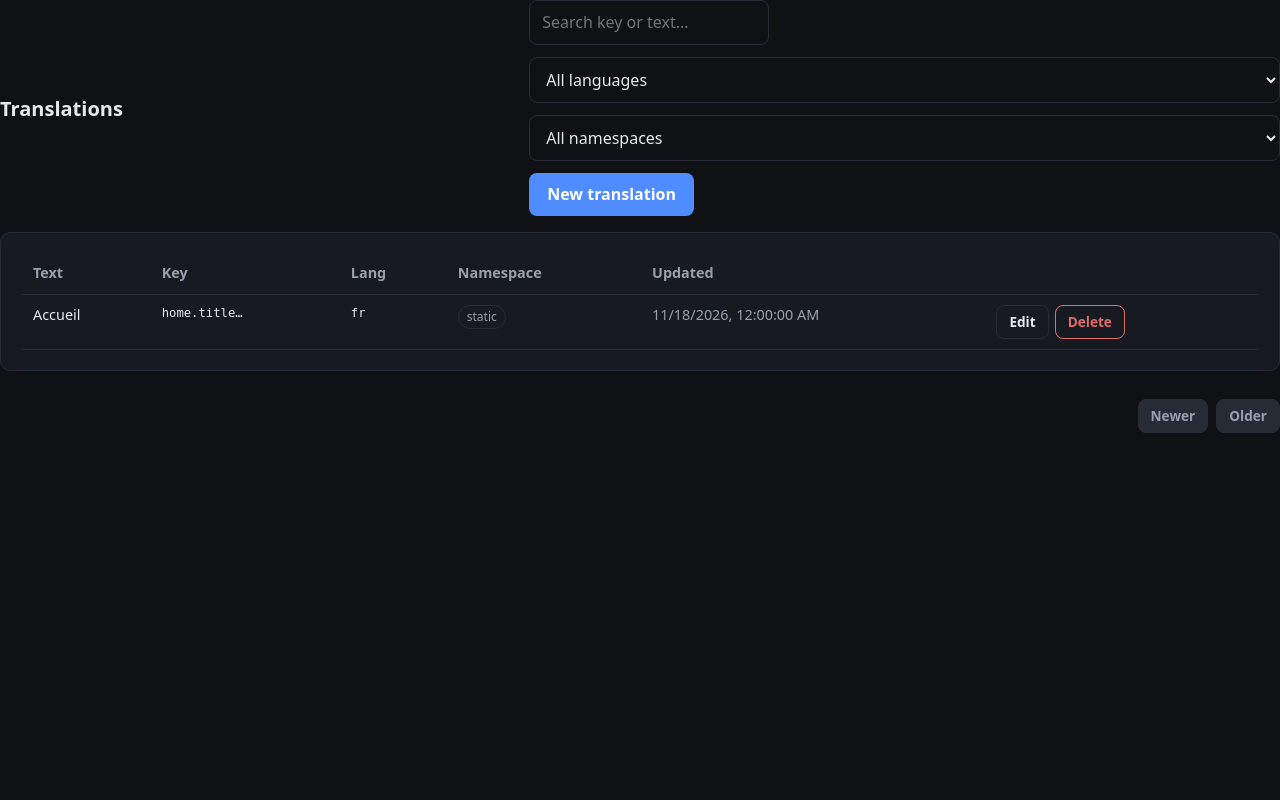
Test: TranslationsAdmin › opens the create and edit modals
Expected: the text "Accueil" is shown, [21,295,150,350]
What coordinates should you click on to do the following:
click the button "New translation"
I would click on:
 (612, 195)
Its box is [529,173,694,216].
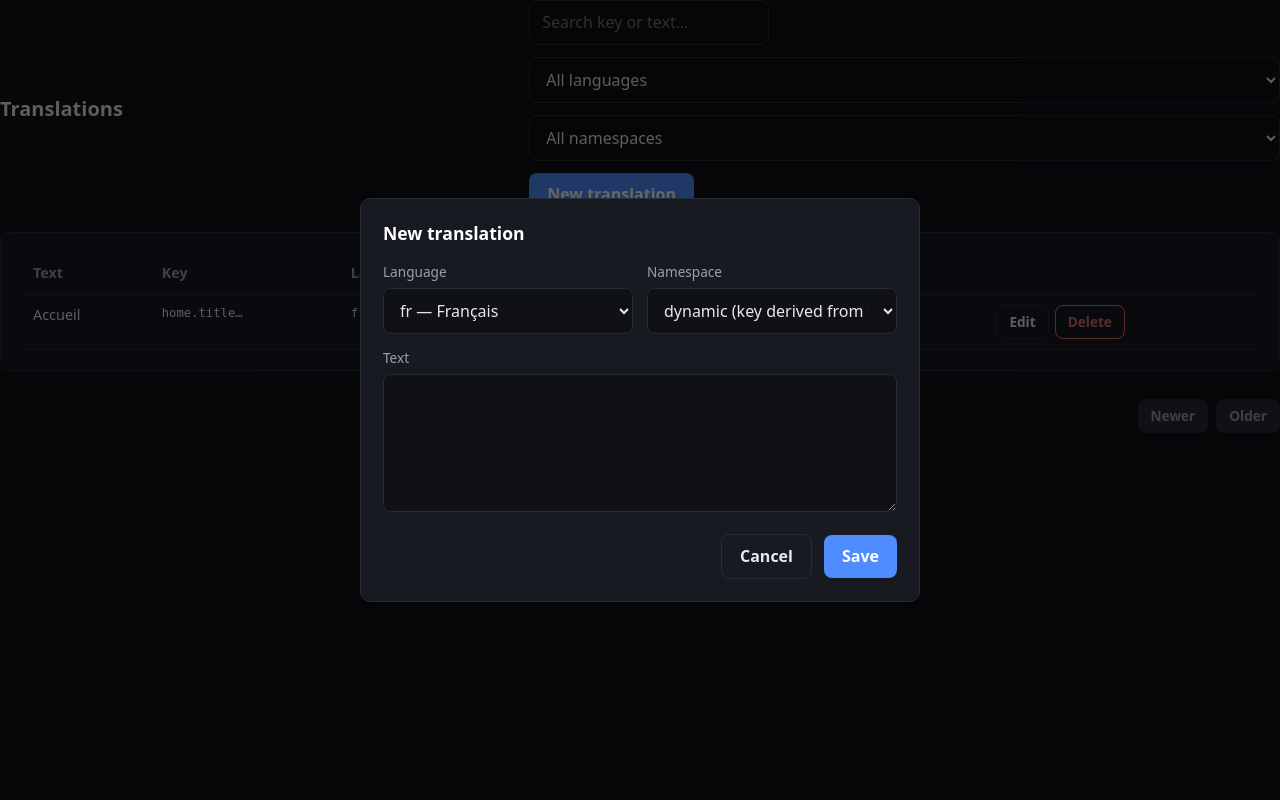
Expected: the text box labelled "Text" is empty, [383,374,897,512]
Expected: the dialog is shown
What coordinates should you click on to do the following:
click the button "Cancel"
I would click on:
 (766, 556)
Its box is [721,534,812,579].
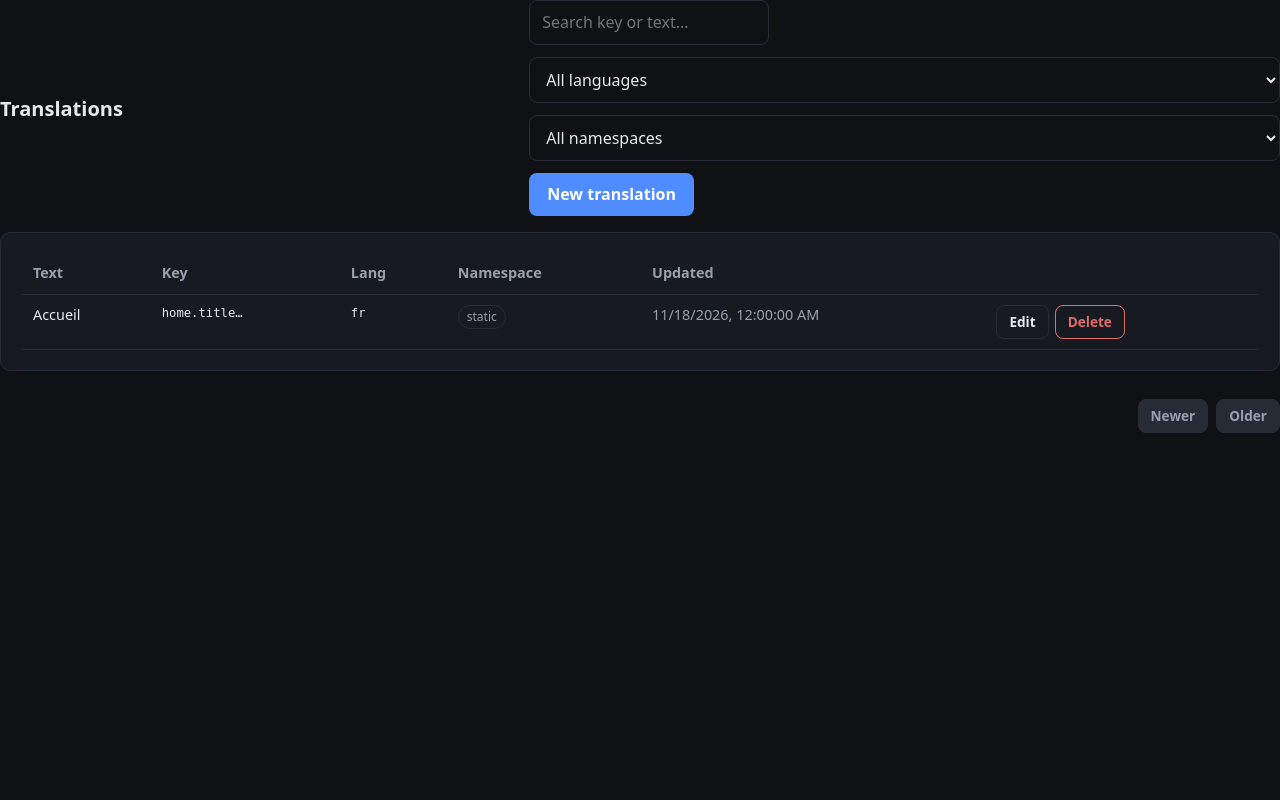
What coordinates should you click on to do the following:
click the button "Edit"
I would click on:
 (1023, 322)
Its box is [996,305,1049,339].
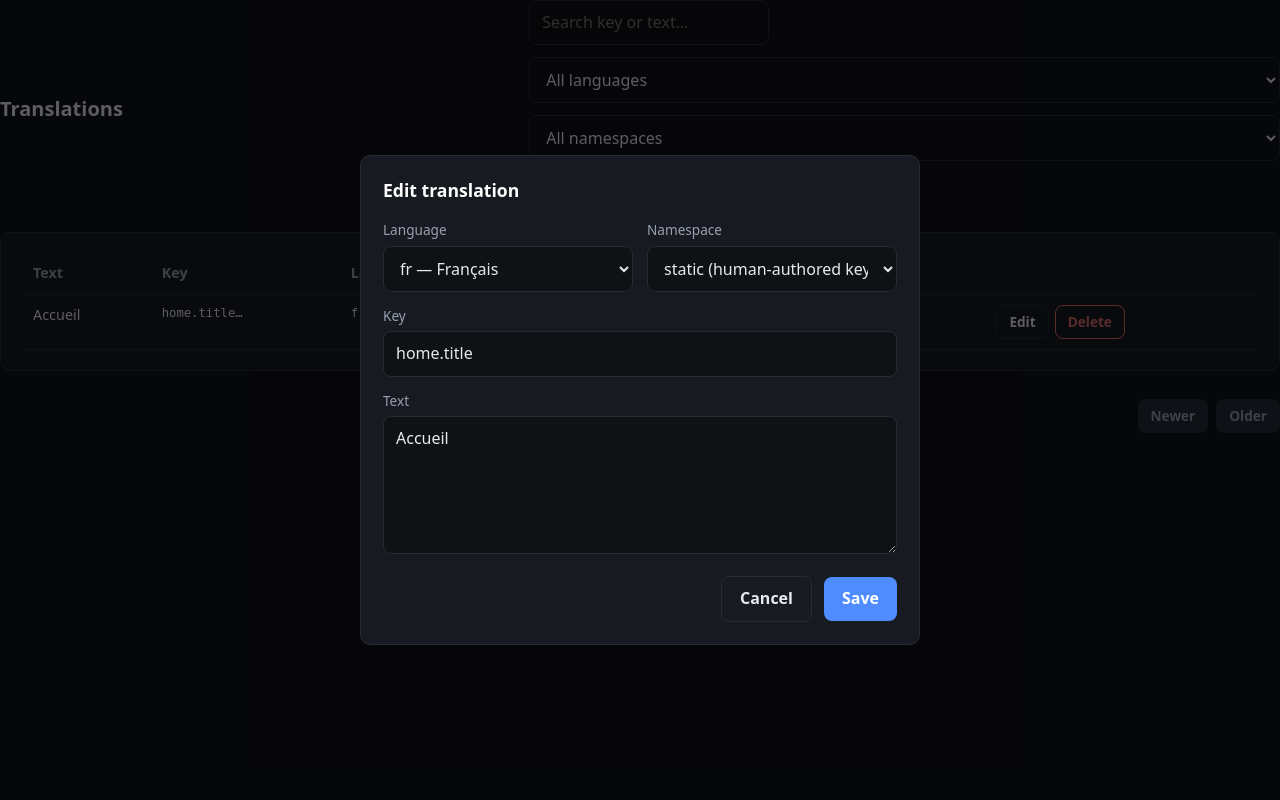
Expected: the dialog is shown
Expected: the text box labelled "Text" holds "Accueil", [383,416,897,554]
